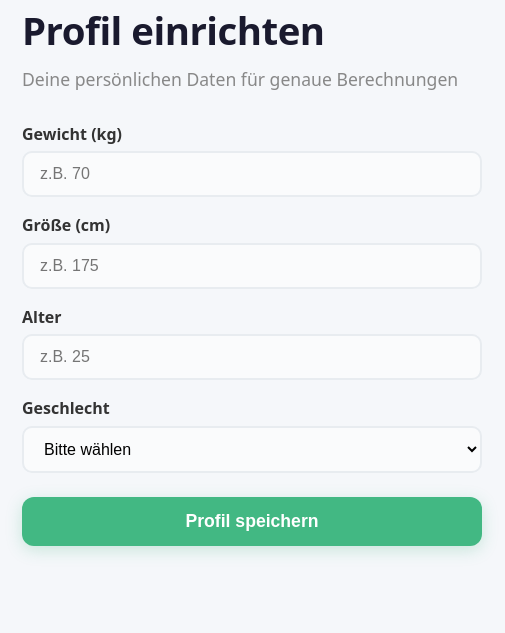
Test: ProfileForm.vue › speichert das Profil erfolgreich und leitet danach weiter
This screenshot has width=505, height=633.
Type "70" into the number field with placeholder "z.B. 70".
click(252, 174); type("70")  # box [22, 151, 482, 197]
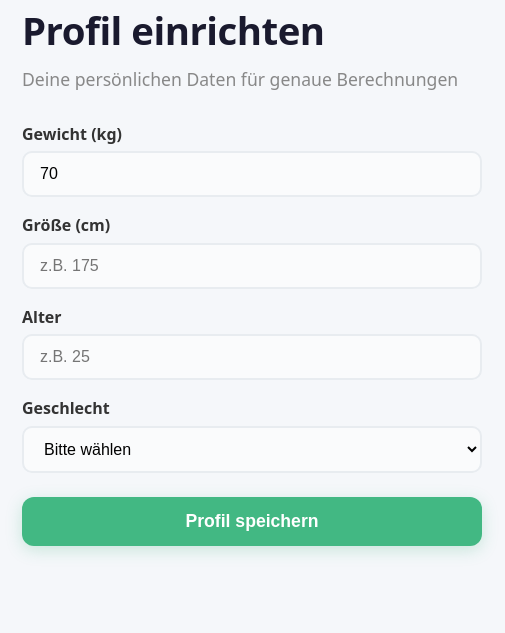
Type "175" into the number field with placeholder "z.B. 175".
click(252, 266); type("175")  # box [22, 243, 482, 289]
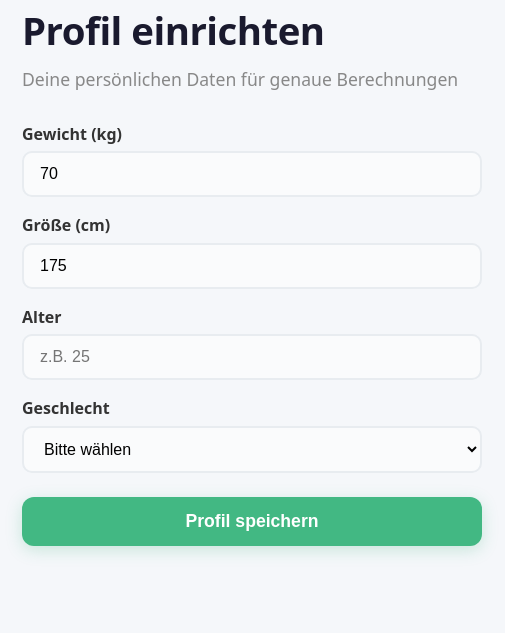
Type "25" into the number field with placeholder "z.B. 25".
click(252, 357); type("25")  # box [22, 334, 482, 380]
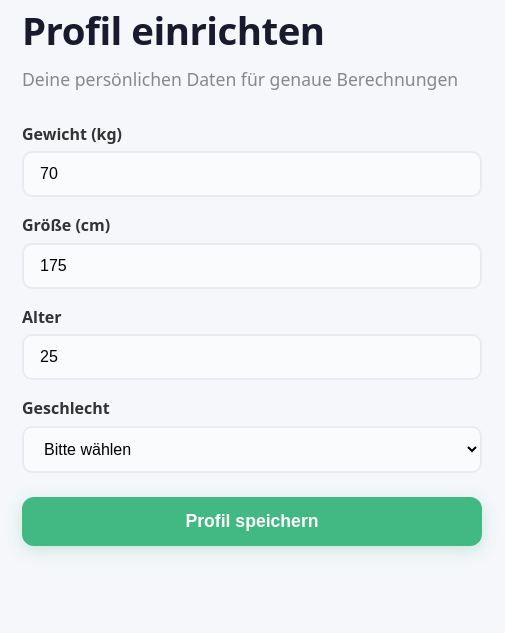
Select "Männlich" in the dropdown at [252, 450], box [22, 426, 482, 473]
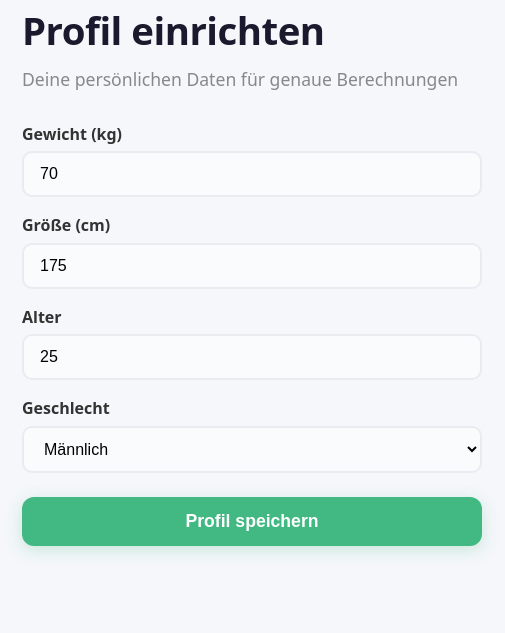
Submit the form
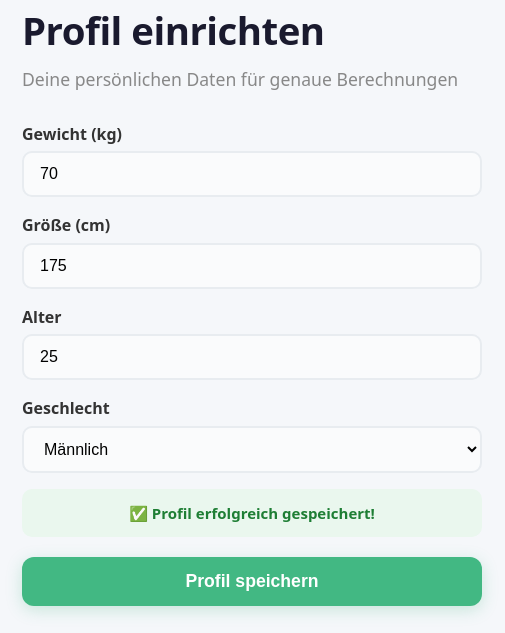
Result: the text with class "success" shows "erfolgreich gespeichert" at [129, 503, 375, 523]
